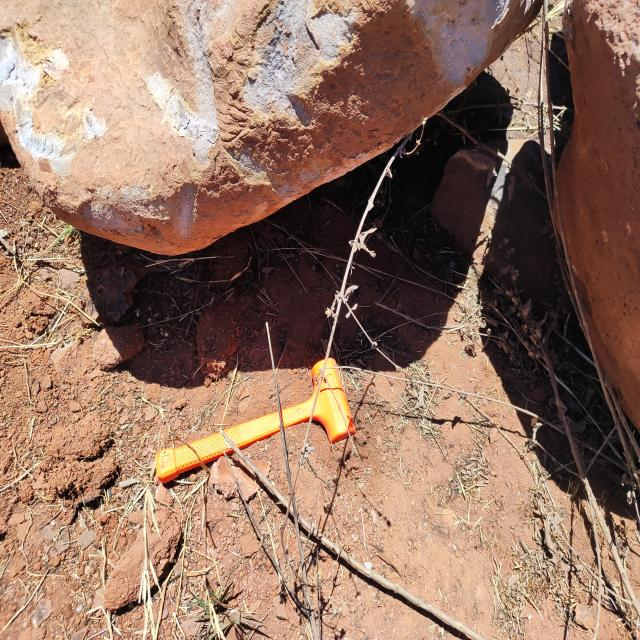Orange_hammer: (154, 356, 356, 484)
